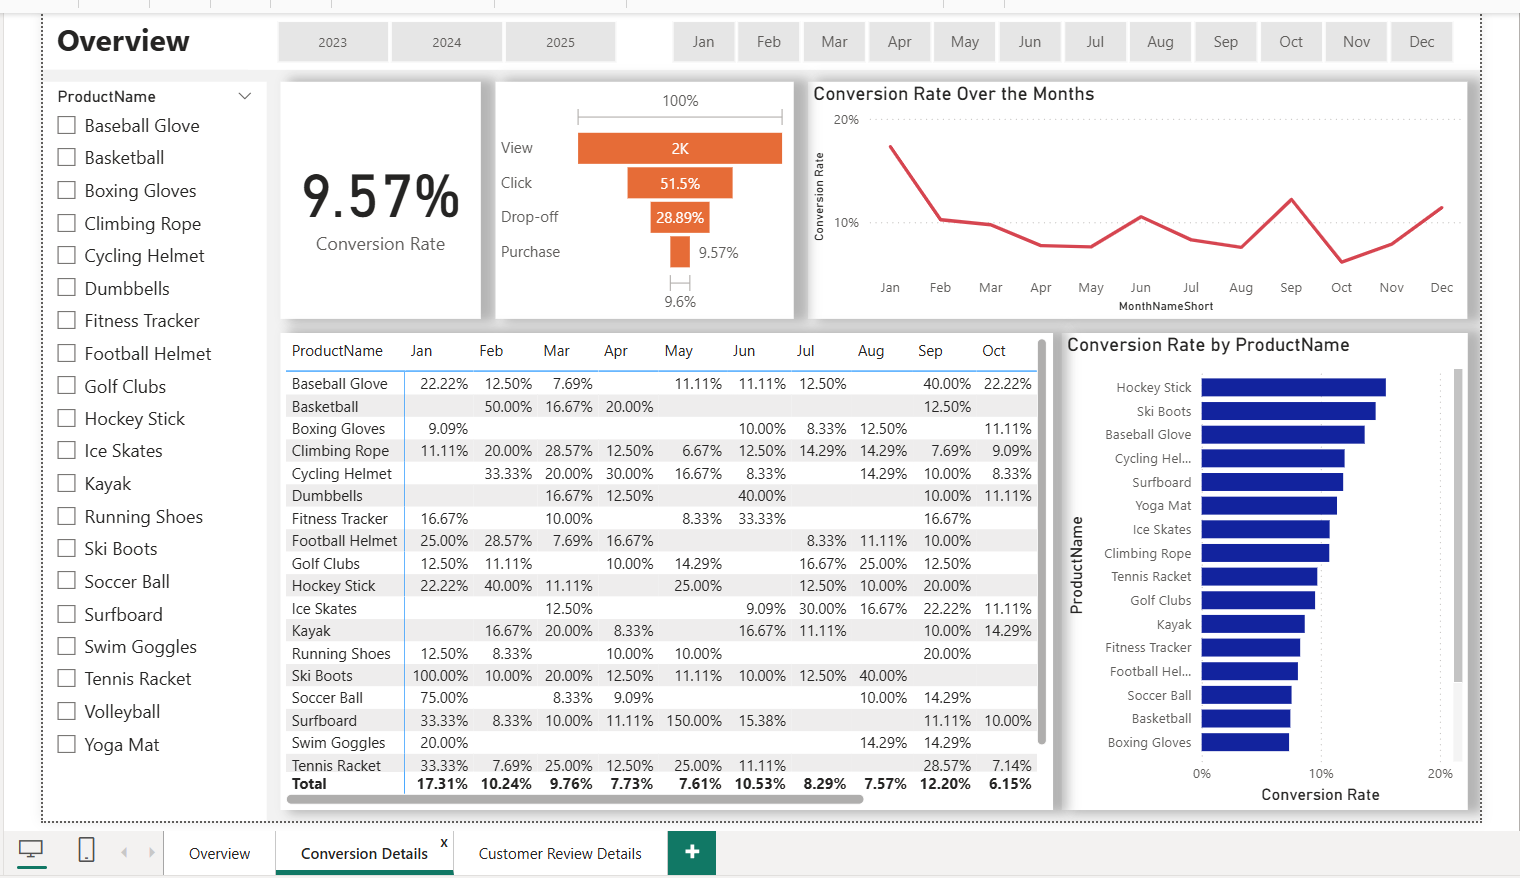

This screenshot's page, from the dashboard's own definition file:
{"tool":"powerbi","page":{"name":"Conversion Details","canvas":[1280,720],"ordinal":1},"visuals":[{"type":"textbox","box":[0,0,1280.3,50.8],"z":0},{"type":"slicer","fields":{"Values":["dim_products.ProductName"]},"box":[0,61.6,198.8,659.3],"z":1000},{"type":"card","fields":{"Values":["_Calcultions.Conversion Rate"]},"box":[211.1,61.5,178.6,211.1],"z":2000},{"type":"slicer","fields":{"Values":["Calendar.Year"]},"box":[182.2,0,352.3,50.7],"z":3000},{"type":"slicer","fields":{"Values":["Calendar.MonthNameShort"]},"box":[534.5,0,745.6,50.7],"z":4000},{"type":"lineChart","title":"Conversion Rate Over the Months","fields":{"Category":["Calendar.MonthNameShort"],"Y":["_Calcultions.Conversion Rate"]},"box":[681.6,61.5,587.5,211.1],"z":5000},{"type":"funnel","fields":{"Category":["fact_customer_journey.Action"],"Y":["_Calcultions.Number of Customer Journeys"]},"box":[403,61.5,265.4,211.1],"z":6000},{"type":"barChart","fields":{"Y":["_Calcultions.Conversion Rate"],"Category":["dim_products.ProductName"]},"box":[907.2,284.7,361.9,424.7],"z":7000},{"type":"pivotTable","fields":{"Rows":["dim_products.ProductName"],"Columns":["Calendar.MonthNameShort"],"Values":["_Calcultions.Conversion Rate"]},"box":[211.1,284.7,687.7,424.7],"z":8000}]}

Visuals, with their boxes on the page's 1280x720 design canvas (x1, y1, x2, y2). These are canvas units, not pixel positions in the 1520x878 screenshot, which may show the page scaled, cropped or inside an application window:
textbox: bbox=[0, 0, 1280, 51]
slicer - dim_products.ProductName: bbox=[0, 62, 199, 721]
card - _Calcultions.Conversion Rate: bbox=[211, 62, 390, 273]
slicer - Calendar.Year: bbox=[182, 0, 534, 51]
slicer - Calendar.MonthNameShort: bbox=[534, 0, 1280, 51]
"Conversion Rate Over the Months" lineChart: bbox=[682, 62, 1269, 273]
funnel - fact_customer_journey.Action x _Calcultions.Number of Customer Journeys: bbox=[403, 62, 668, 273]
barChart - _Calcultions.Conversion Rate x dim_products.ProductName: bbox=[907, 285, 1269, 709]
pivotTable - dim_products.ProductName x Calendar.MonthNameShort: bbox=[211, 285, 899, 709]
